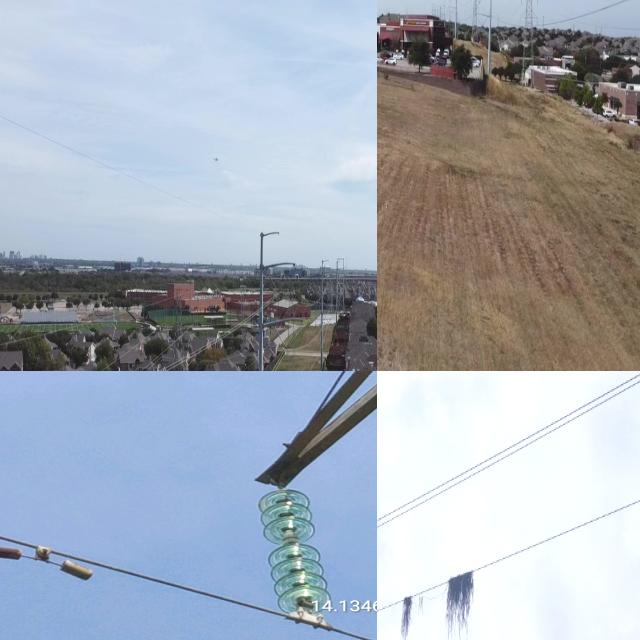杆塔: (249, 371, 377, 640), (159, 277, 197, 371), (517, 0, 541, 90), (470, 0, 483, 46)
植被遮挡: (445, 566, 476, 640), (399, 594, 413, 640)
正常电缆: (0, 522, 377, 640)
正常绝缘子: (253, 489, 341, 626), (275, 270, 292, 296), (274, 326, 289, 353), (283, 328, 298, 354), (267, 269, 281, 296), (519, 15, 523, 28), (518, 0, 523, 7), (537, 16, 540, 26), (536, 0, 538, 7)
绝缘子破损: (280, 533, 301, 543)
